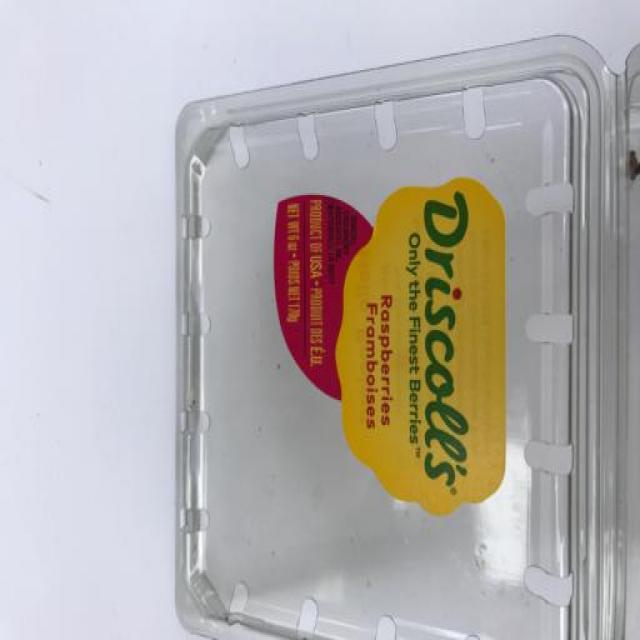plastic: (172, 33, 640, 640)
